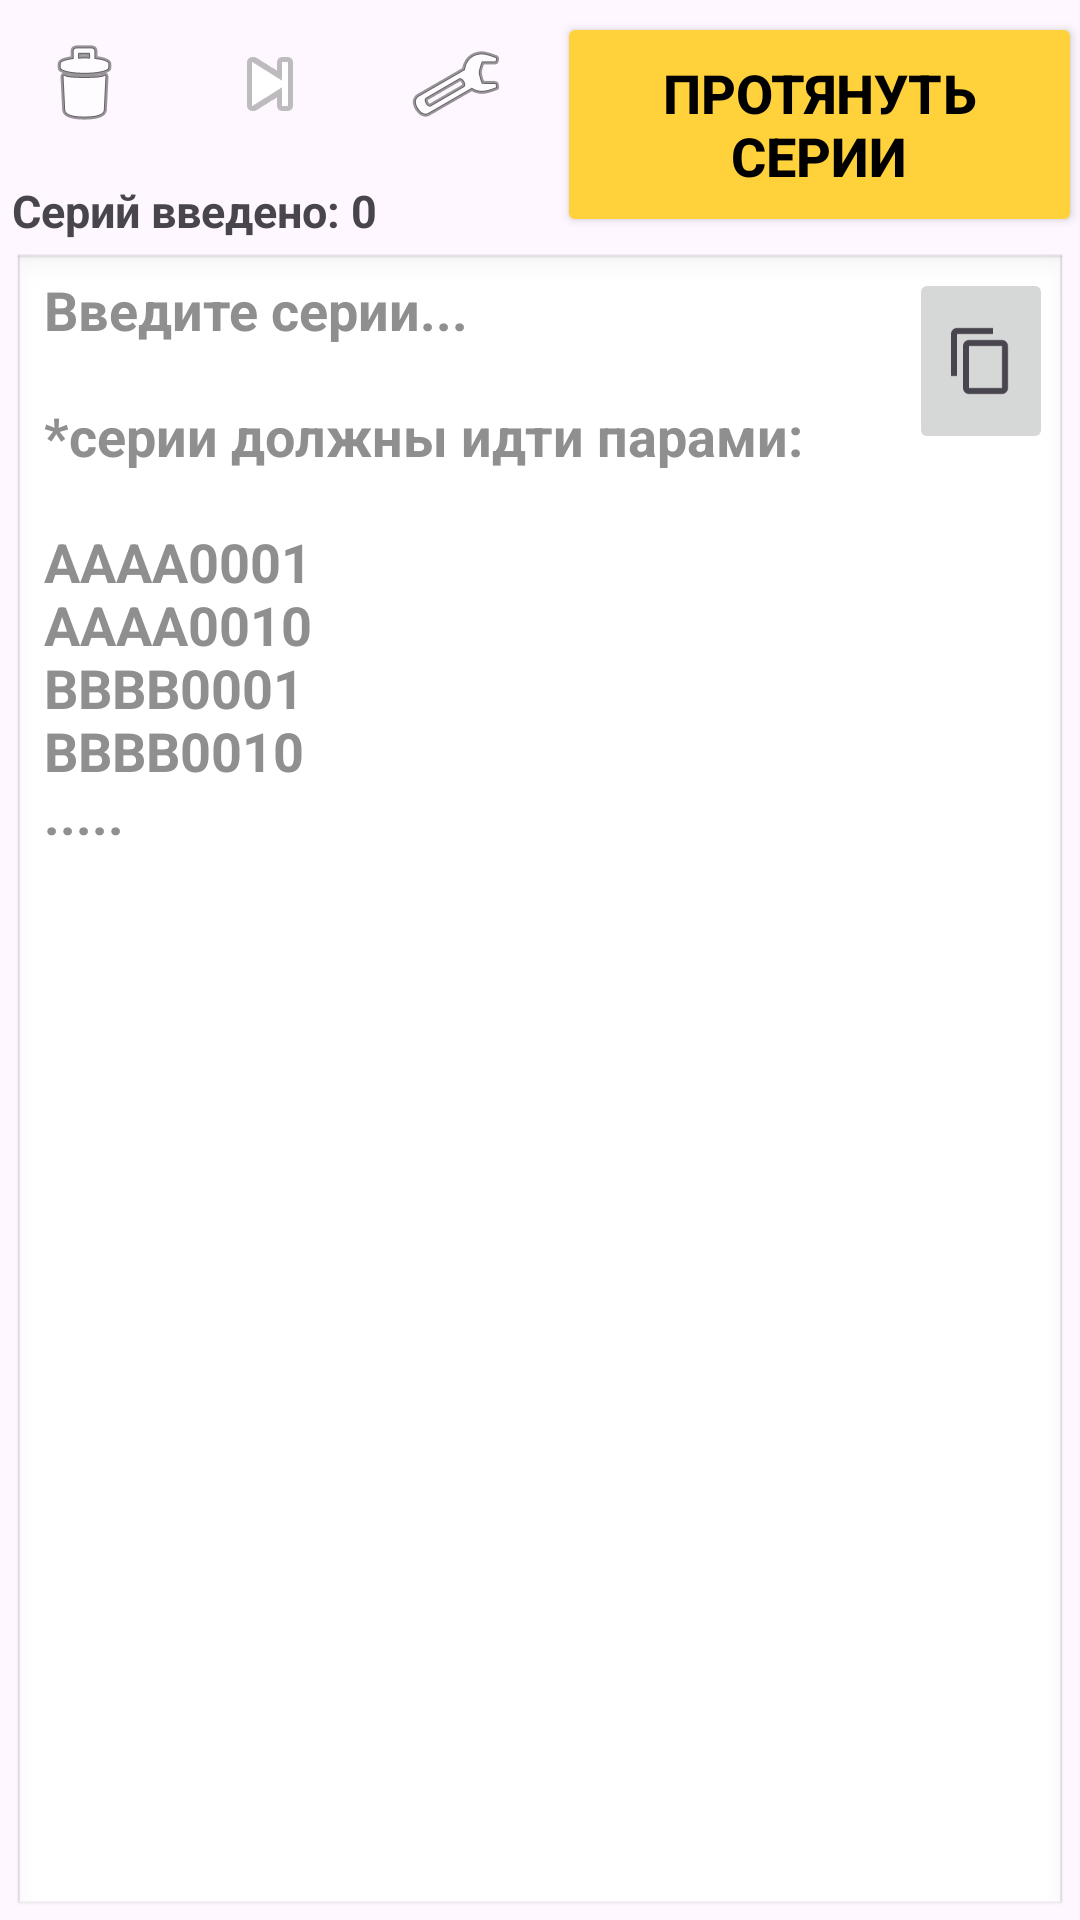

Screen size 1080 x 1920. Icon name, then its box in pixels as (x1=x1, y1=y1, x2=x2, y2=y2):
delete: (x1=57, y1=45, x2=112, y2=120)
next: (x1=247, y1=57, x2=293, y2=111)
preferences: (x1=413, y1=51, x2=499, y2=117)
